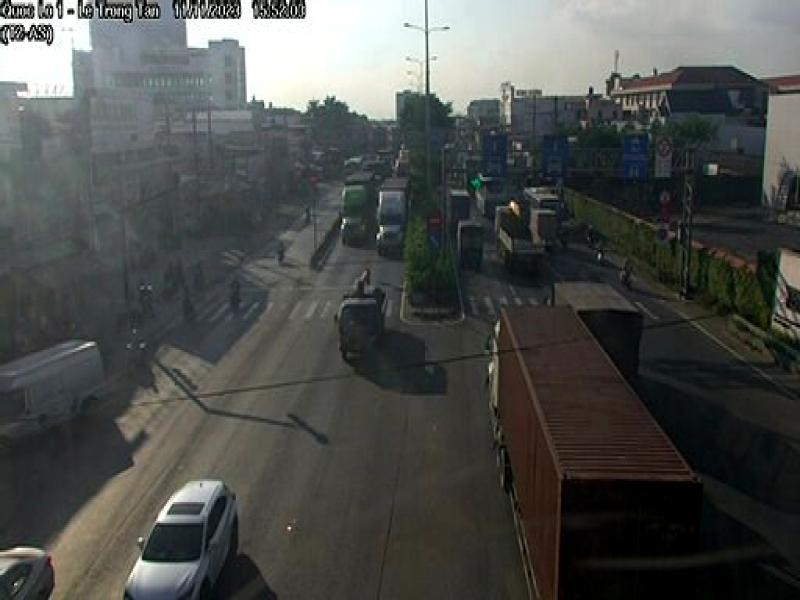truck: (489, 307, 704, 600), (549, 276, 643, 383), (338, 266, 389, 373), (375, 171, 411, 259), (341, 167, 381, 243)
